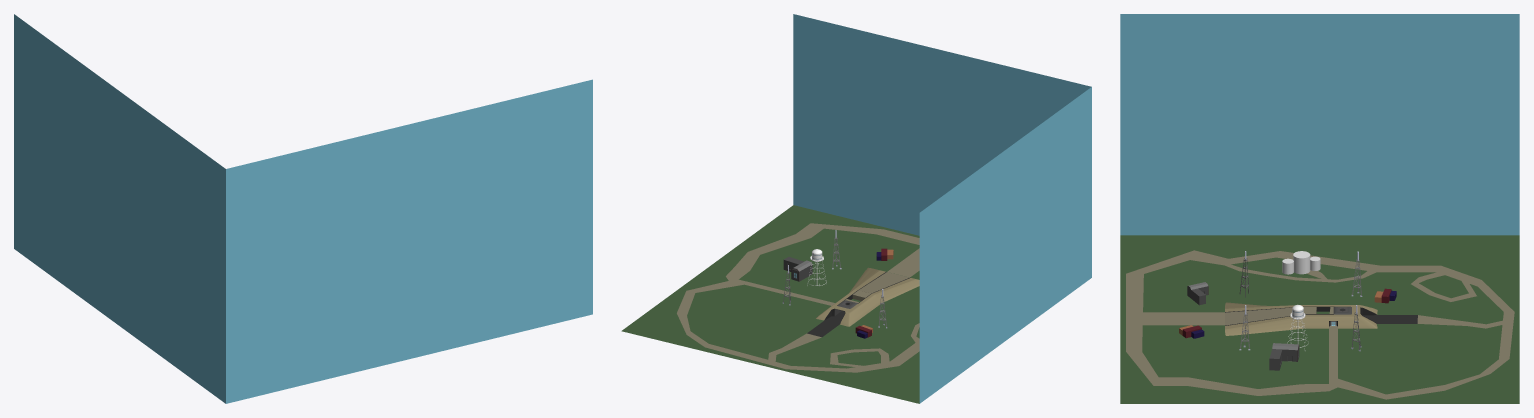
File: Environment.glb
3 renders of one model, left to right at view 1: azimuth 30°, elevation 25°; view 2: azimuth 150°, elevation 25°; view 3: azimuth 270°, elevation 25°, orthographic. The views are drawn at different scales.
Visible parts, largest first — view 1: Ground; view 2: Ground, Road, Bunker, Building; view 3: Ground, Road, Bunker, Building, Building.001, Cylinder.005.
Boxes of the visible parts, x1,y1,x2,y2 form: Ground: [14, 14, 592, 403]; Ground: [621, 14, 1091, 403]; Road: [677, 223, 919, 372]; Bunker: [807, 267, 919, 337]; Building: [783, 257, 812, 281]; Ground: [1120, 14, 1519, 403]; Road: [1126, 250, 1514, 399]; Bunker: [1225, 302, 1417, 335]; Building: [1269, 343, 1299, 370]; Building.001: [1187, 282, 1208, 305]; Cylinder.005: [1293, 251, 1310, 274].
Size of the model in its own units: 326 by 200 by 326.
